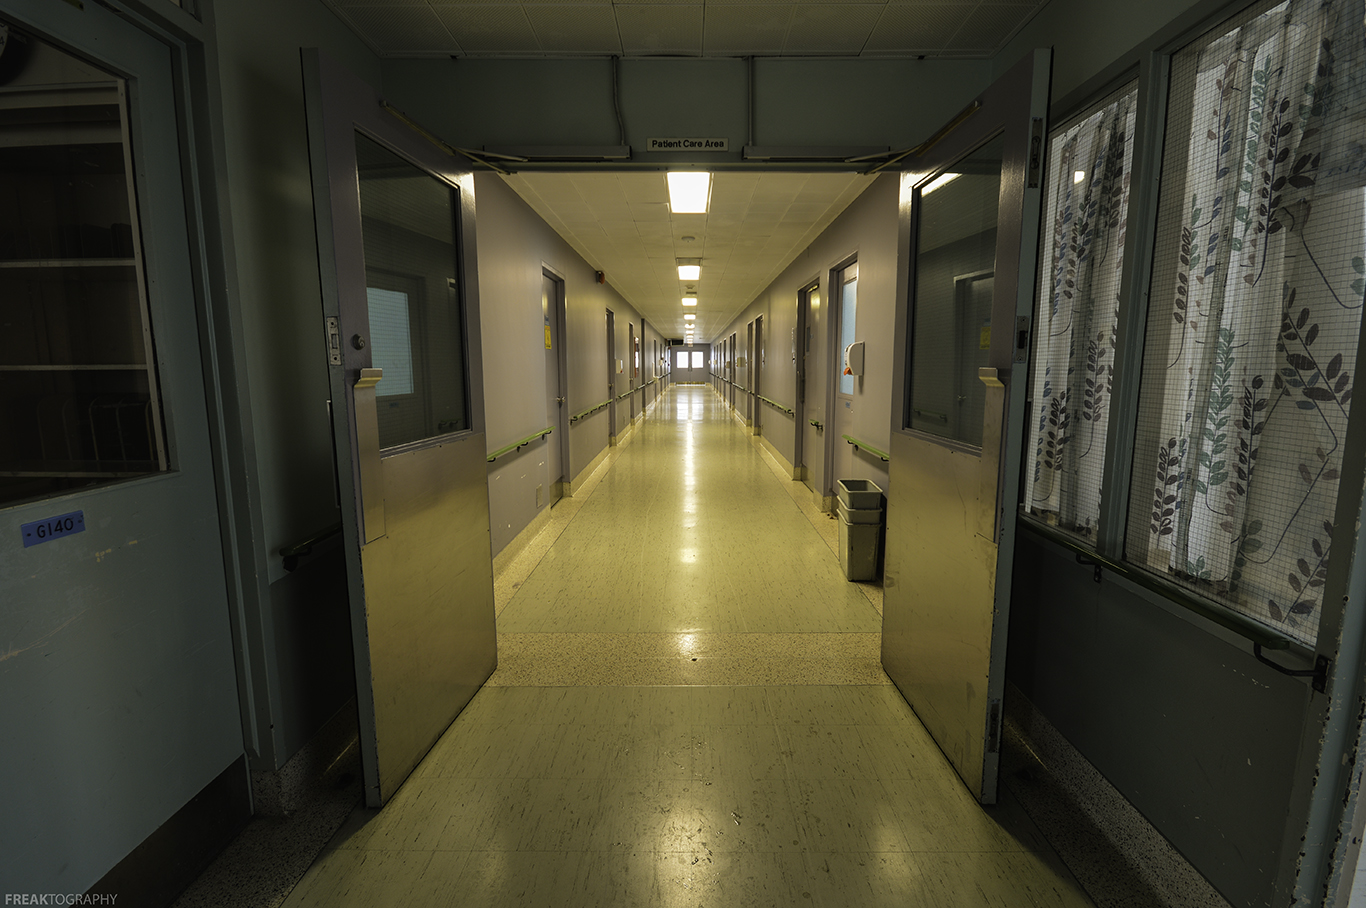dispenser: (840, 342, 864, 396)
door_handle: (353, 368, 387, 387), (976, 367, 1004, 387), (556, 396, 566, 403)
drawer: (608, 383, 614, 388)
hallway_assist_bar: (482, 425, 555, 464), (571, 388, 614, 422), (846, 438, 889, 463), (756, 392, 794, 417), (614, 388, 633, 403), (631, 382, 650, 397), (733, 382, 750, 396), (810, 422, 823, 430)
handle: (1245, 627, 1321, 694)
waste_bin: (830, 469, 883, 589)
